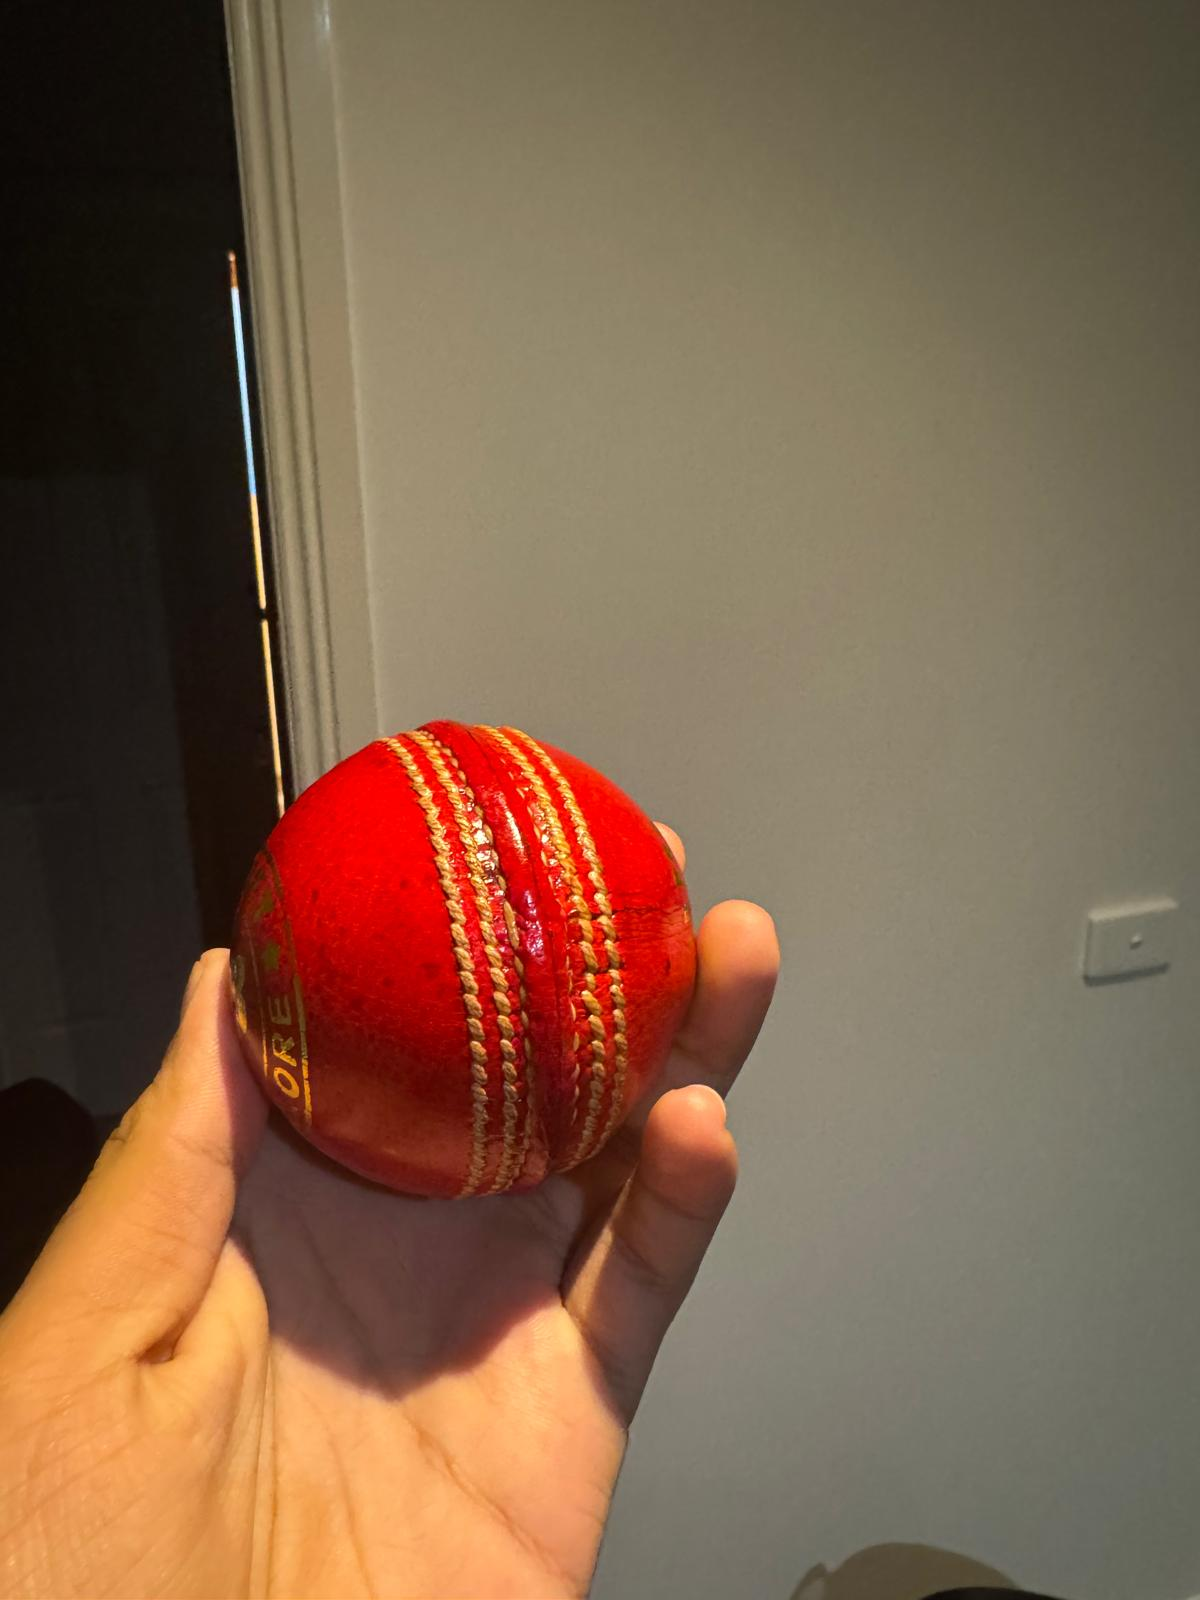Red_Ball: (184, 707, 718, 1243)
